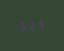eight: (18, 21, 26, 31)
five: (37, 19, 45, 29)
two: (28, 20, 36, 30)
